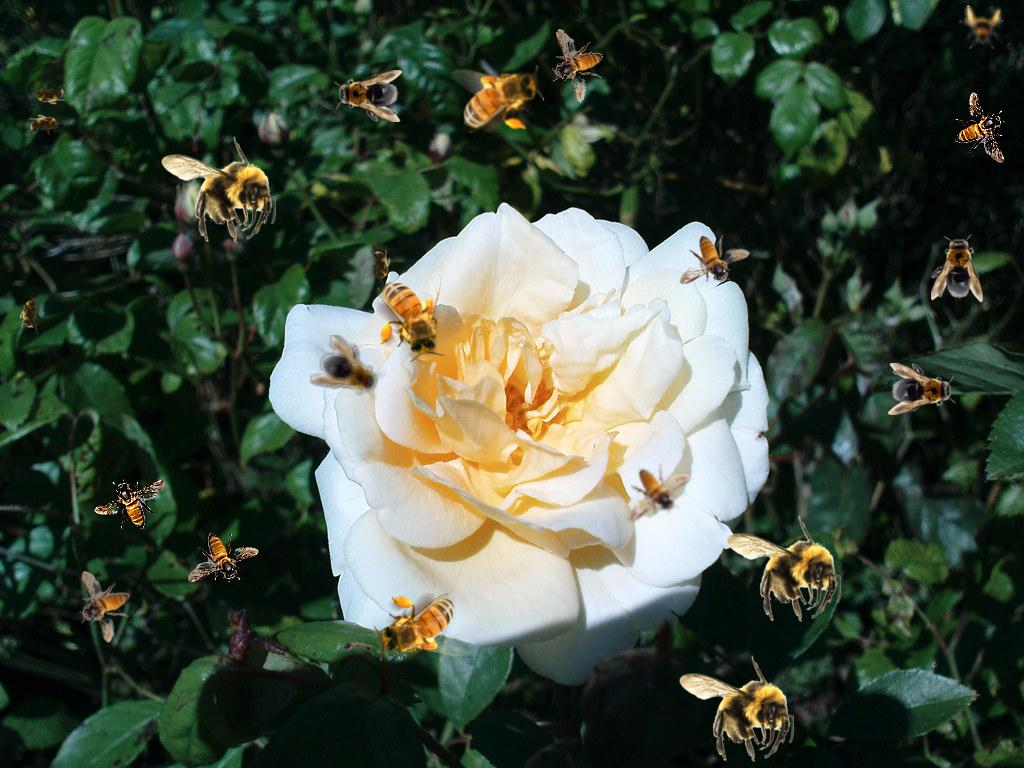Bee: (679, 655, 794, 762), (726, 515, 841, 622), (161, 136, 276, 243), (308, 333, 392, 409), (377, 269, 445, 362), (374, 593, 467, 661), (451, 65, 544, 133), (617, 458, 699, 523), (548, 28, 606, 105), (77, 570, 131, 645), (955, 92, 1005, 163), (94, 479, 165, 529), (679, 235, 750, 285), (188, 533, 259, 583), (888, 363, 956, 415), (334, 70, 402, 122), (931, 234, 983, 302), (959, 5, 1003, 49), (16, 291, 46, 335), (29, 83, 69, 105), (25, 114, 65, 136), (369, 246, 391, 286)
